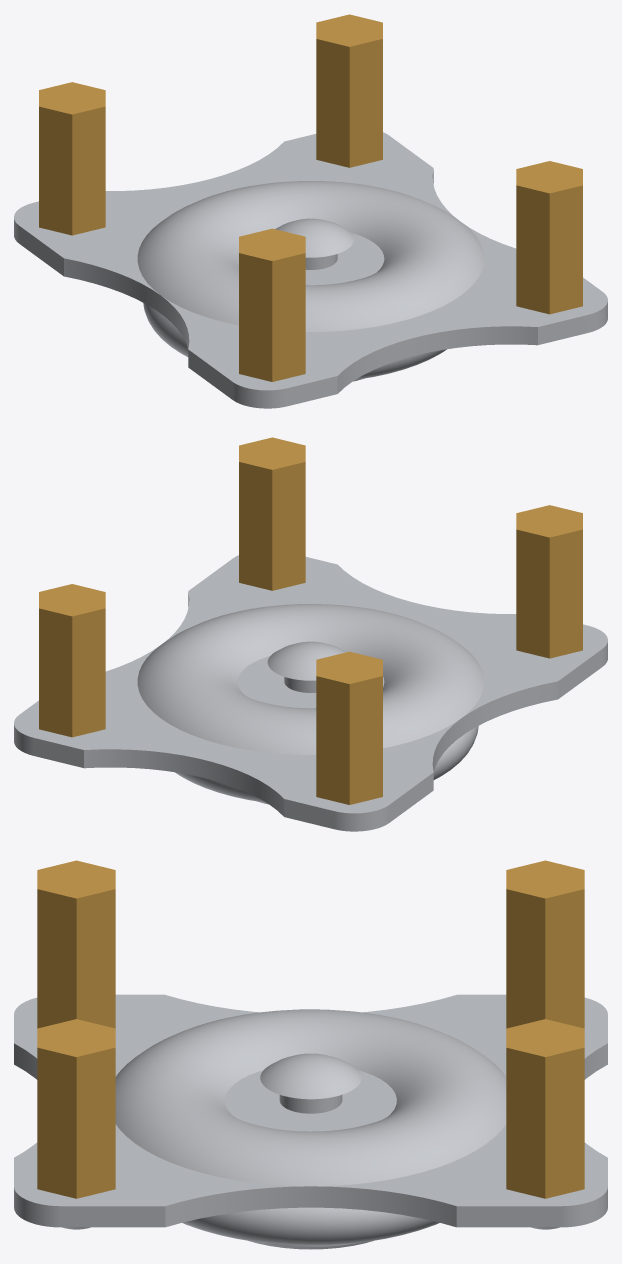
The model's file is swivel_caster_30mm_base.glb.
3 renders of one model, top to bottom at view 1: azimuth 30°, elevation 25°; view 2: azimuth 150°, elevation 25°; view 3: azimuth 270°, elevation 25°, orthographic. The views are drawn at different scales.
Parts seen in each view (by area): view 1: plate, standoffs; view 2: plate, standoffs; view 3: plate, standoffs.
Boxes of the visible parts, x1,y1,x2,y2 form: plate: (14, 132, 607, 408); standoffs: (39, 14, 582, 381); plate: (14, 555, 607, 831); standoffs: (39, 437, 582, 804); plate: (14, 994, 607, 1249); standoffs: (37, 860, 584, 1198).
Size of the model in its own units: 0.032 by 0.0183 by 0.038.
